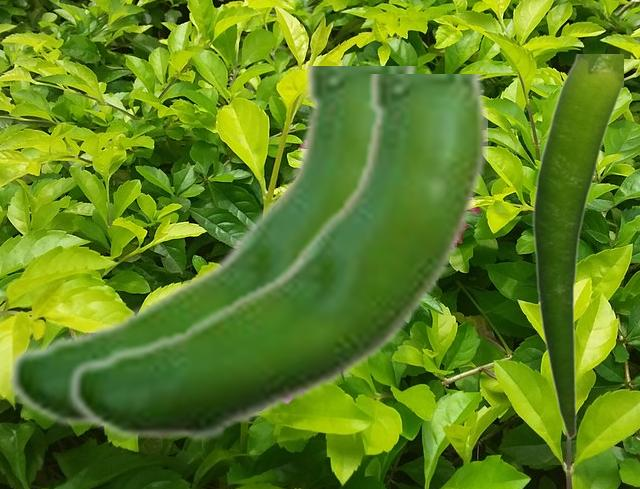green_chili: (66, 74, 486, 443), (5, 66, 420, 430), (532, 54, 622, 438)
